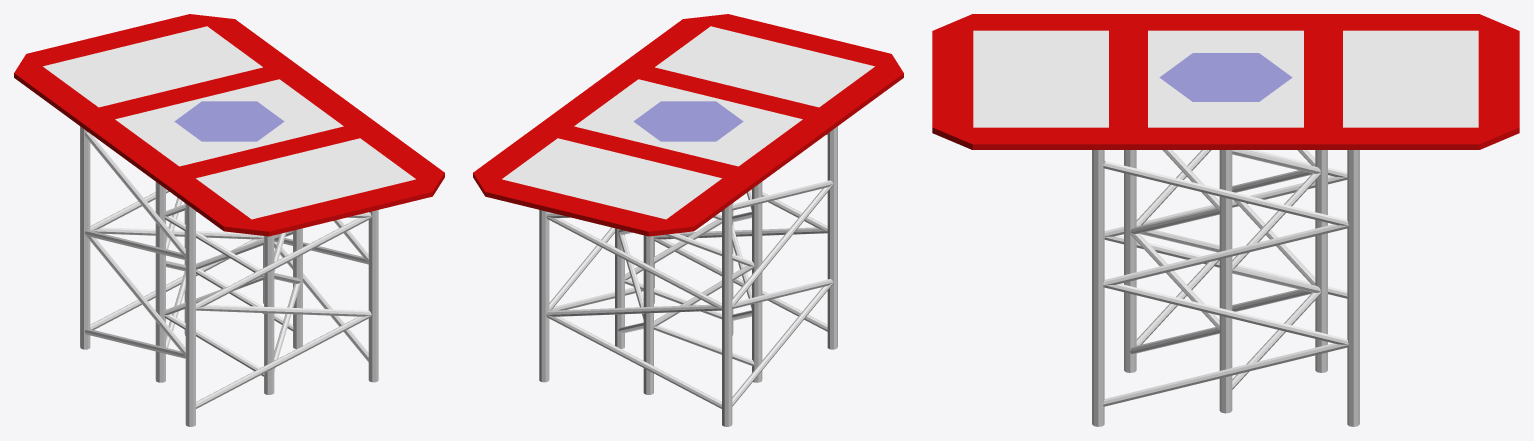
The model's file is Arena.fbx.
3 views of the same model, side by side, from view 1: azimuth 30°, elevation 25°; view 2: azimuth 150°, elevation 25°; view 3: azimuth 270°, elevation 25° (orthographic). The views are drawn at different scales.
Parts seen in each view (by area): view 1: polySurface1, polySurface3, pCylinder8 (×7), pCylinder9 (×5), pDisc1, pCylinder7 (×4), pCylinder16, pCylinder14, pCylinder4, pCylinder2, pCylinder3, pCylinder6 (+1 smaller); view 2: polySurface1, polySurface3, pCylinder8 (×6), pCylinder9 (×7), pDisc1, pCylinder7 (×4), pCylinder14, pCylinder16, pCylinder15, pCylinder2, pCylinder13, pCylinder12 (+1 smaller); view 3: polySurface1, polySurface3, pCylinder8 (×6), pCylinder9 (×6), pDisc1, pCylinder7 (×5), pCylinder15, pCylinder4, pCylinder12, pCylinder6 (×2), pCylinder3, pCylinder13.
Part boxes in pixels (x1,y1,x2,y2): polySurface1: (14, 14, 444, 236); polySurface3: (70, 60, 387, 189); pCylinder8 (×7): (84, 238, 371, 408); pCylinder9 (×5): (85, 227, 371, 355); pDisc1: (174, 101, 284, 141); pCylinder7 (×4): (84, 189, 371, 310); pCylinder16: (185, 204, 195, 426); pCylinder14: (80, 126, 90, 349); pCylinder4: (368, 210, 378, 382); pCylinder2: (155, 182, 165, 382); pCylinder3: (264, 235, 274, 394); pCylinder6: (84, 132, 185, 257); polySurface1: (473, 14, 903, 236); polySurface3: (530, 60, 847, 189); pCylinder8 (×6): (546, 238, 832, 408); pCylinder9 (×7): (546, 219, 833, 326); pDisc1: (633, 101, 743, 141); pCylinder7 (×4): (546, 184, 832, 310); pCylinder14: (722, 204, 732, 426); pCylinder16: (827, 126, 837, 349); pCylinder15: (539, 210, 549, 382); pCylinder2: (752, 182, 762, 382); pCylinder13: (643, 235, 653, 394); pCylinder12: (615, 228, 624, 348); polySurface1: (932, 14, 1519, 149); polySurface3: (1109, 14, 1342, 149); pCylinder8 (×6): (1103, 235, 1348, 406); pCylinder9 (×6): (1103, 176, 1348, 344); pDisc1: (1159, 53, 1292, 101); pCylinder7 (×5): (1103, 150, 1348, 287); pCylinder15: (1347, 150, 1359, 426); pCylinder4: (1092, 150, 1104, 426); pCylinder12: (1219, 150, 1232, 413); pCylinder6 (×2): (1103, 150, 1348, 225); pCylinder3: (1124, 150, 1136, 372); pCylinder13: (1315, 150, 1327, 372).
Bounding box in the file's own units: 48.35 × 50.65 × 92.04.
